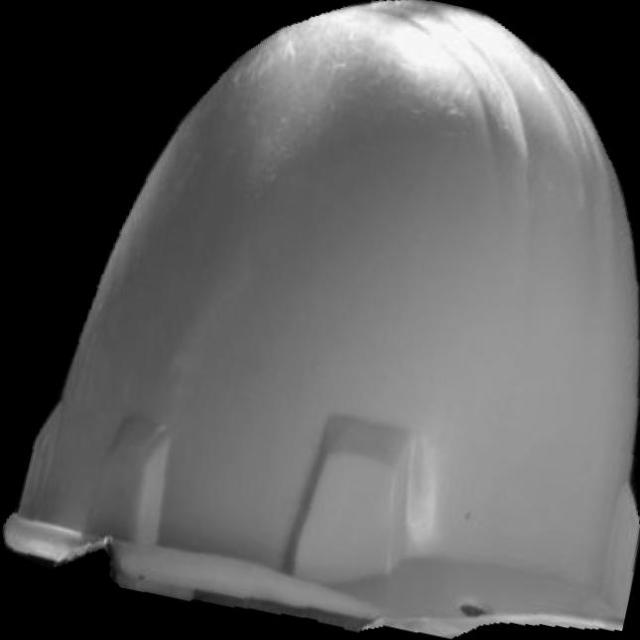construction helmet: (1, 0, 639, 639)
